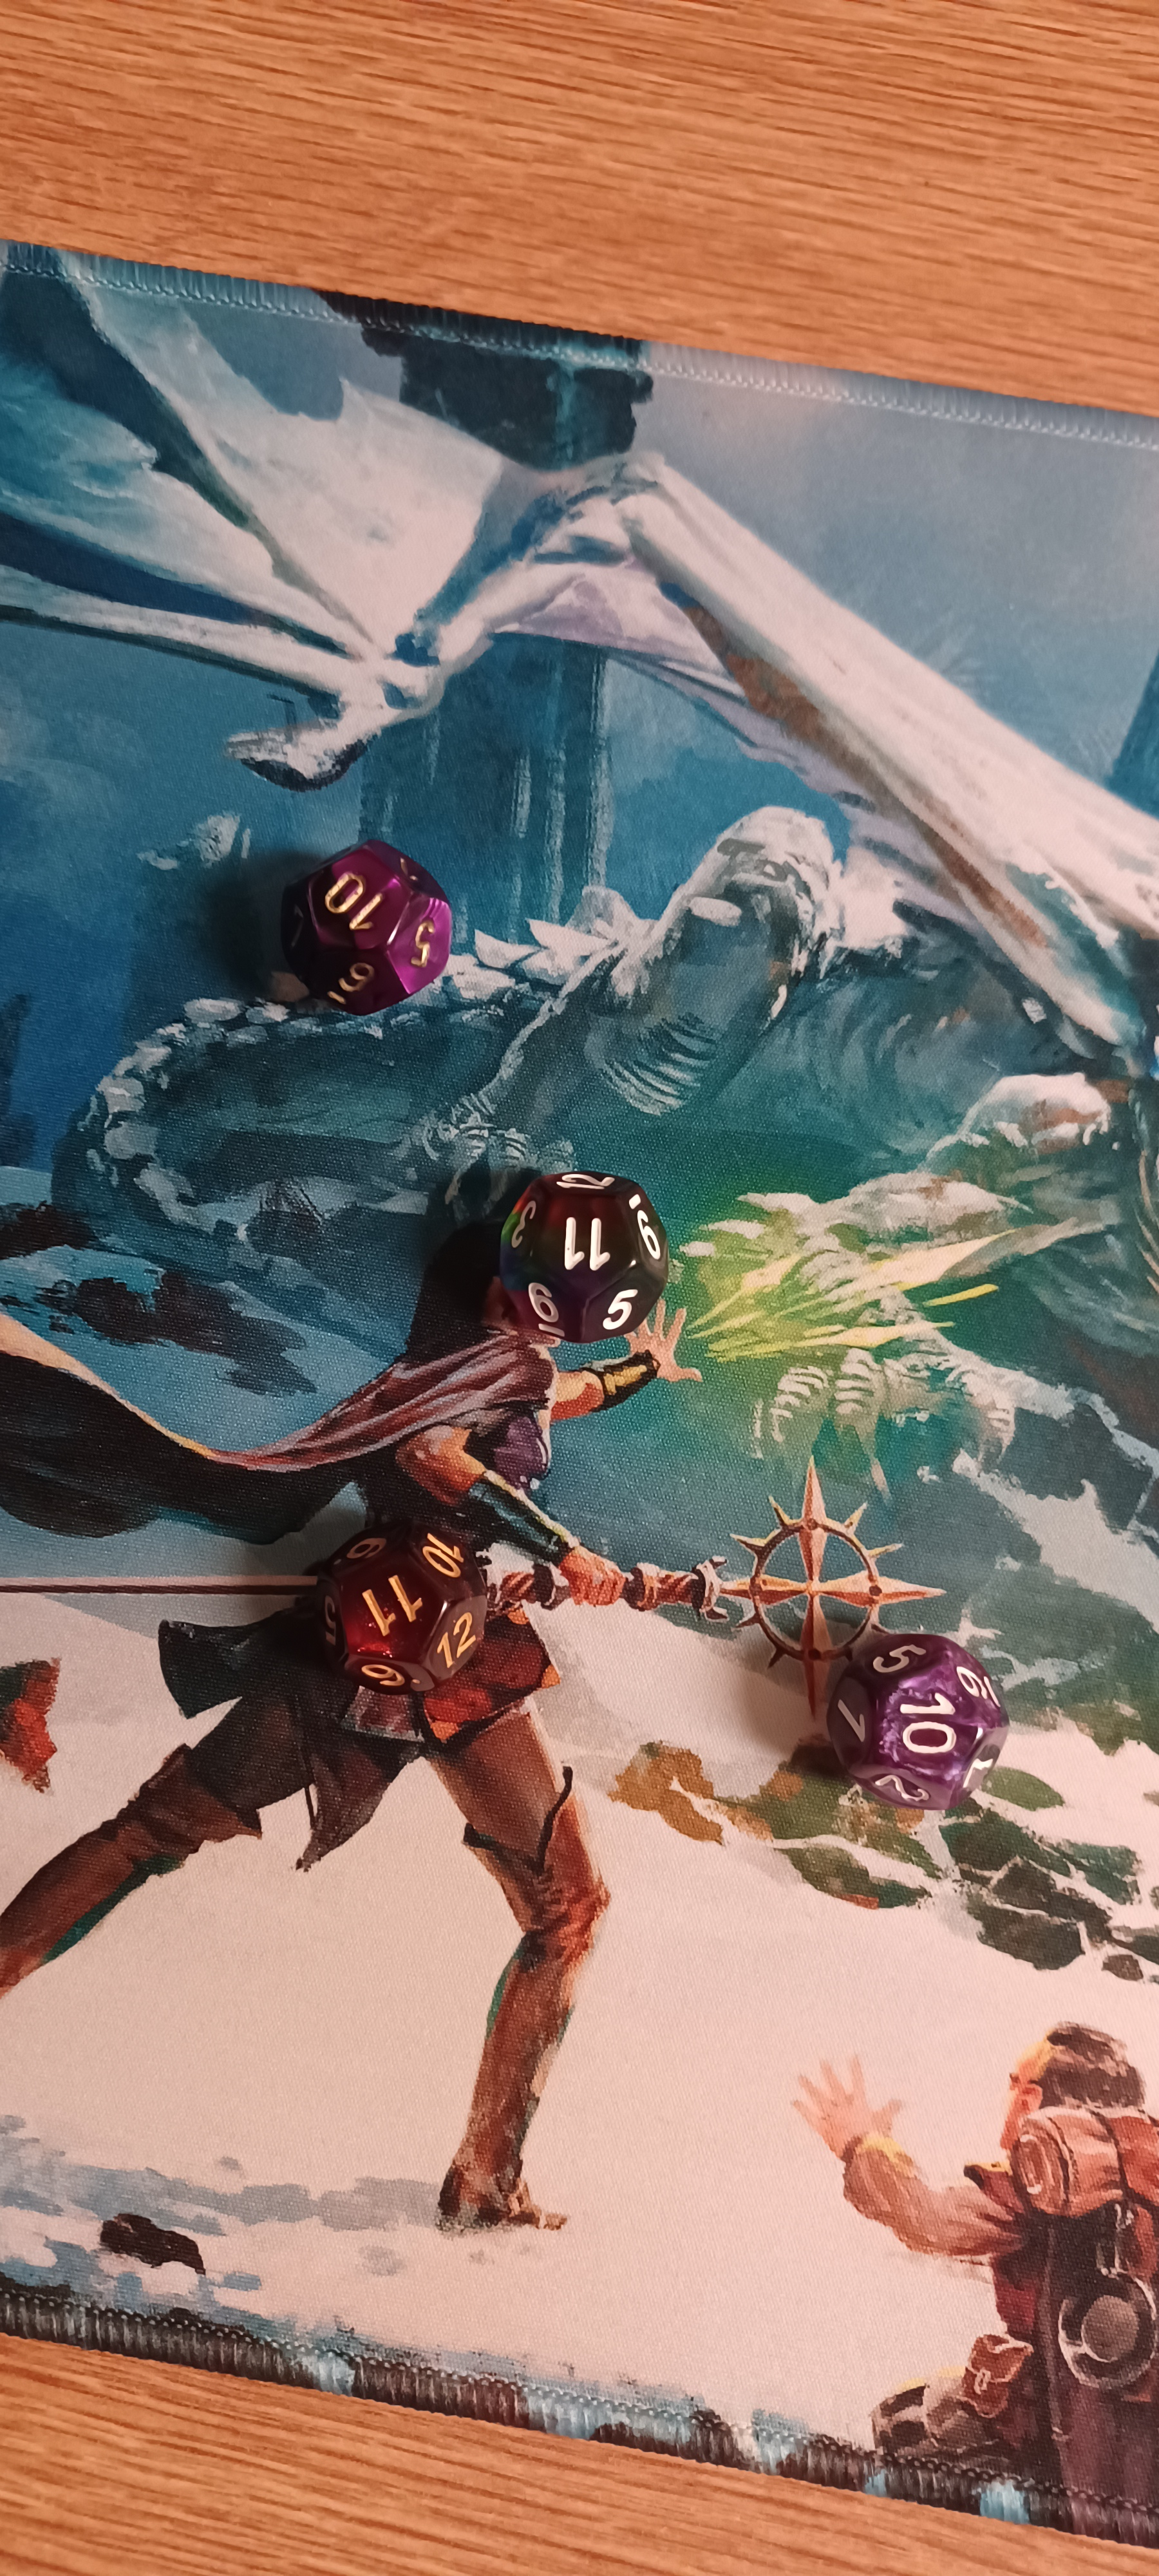eleven: (494, 1127, 701, 1383), (295, 1495, 517, 1722)
ten: (801, 1590, 1031, 1833), (268, 820, 483, 1030)
